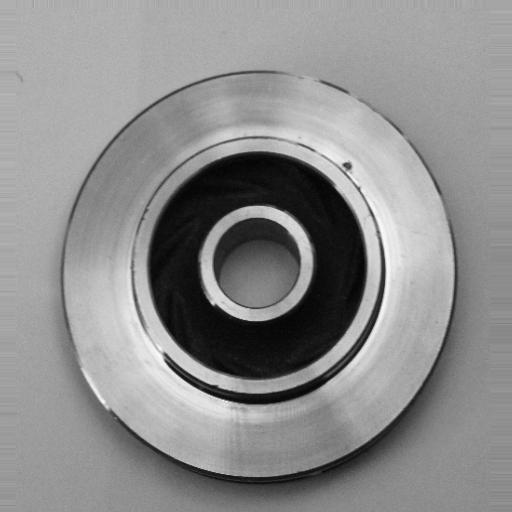crack: (337, 156, 358, 183)
scratch: (65, 342, 121, 422), (127, 284, 172, 370)
unpolished_casting: (59, 66, 457, 483)
